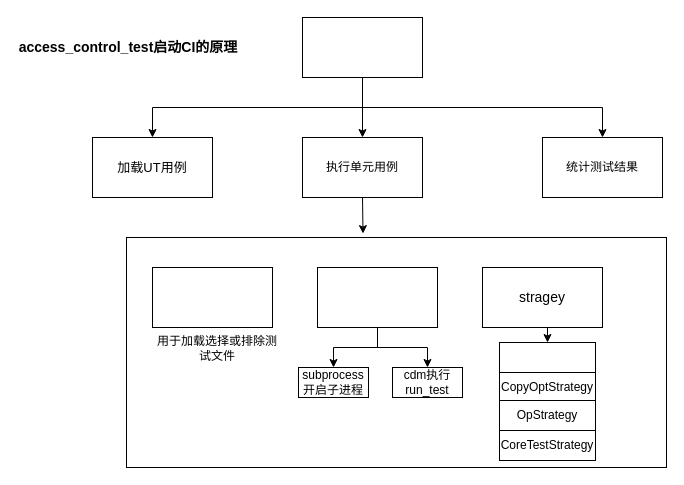
The diagram is 684 pixels wide and 485 high, and some of its shapes have lost their labels. The shapes that lost their labels are listed below. From the top down, each one's centre as x and y in pixels, then its label:
the point at 362,47: access_control_test
the point at 212,297: TestMgr类
the point at 377,297: EXEC方法
the point at 547,357: TestFileStrategy
